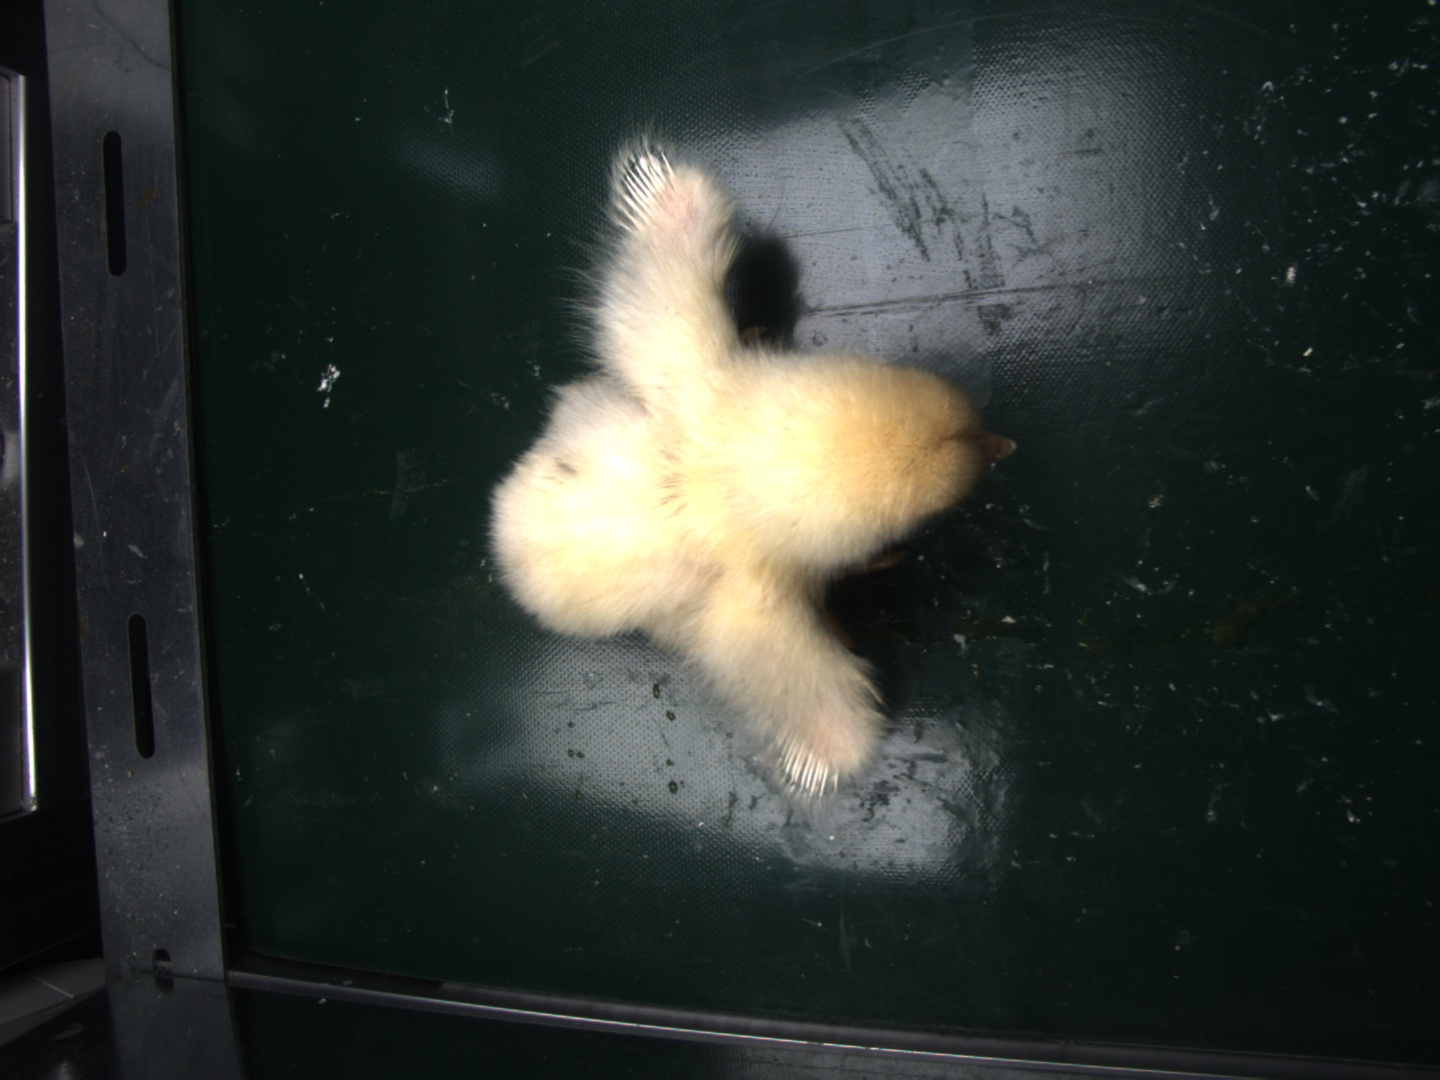male: (611, 145, 681, 233), (776, 732, 844, 803)
